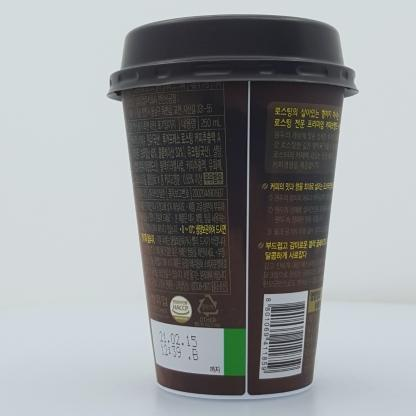--------------------: (106, 14, 359, 400)
